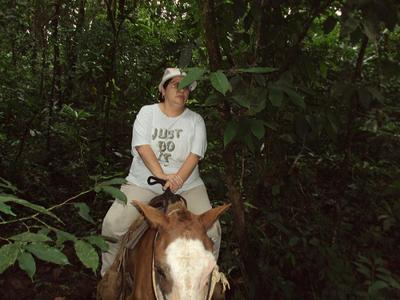person: (102, 67, 222, 272)
